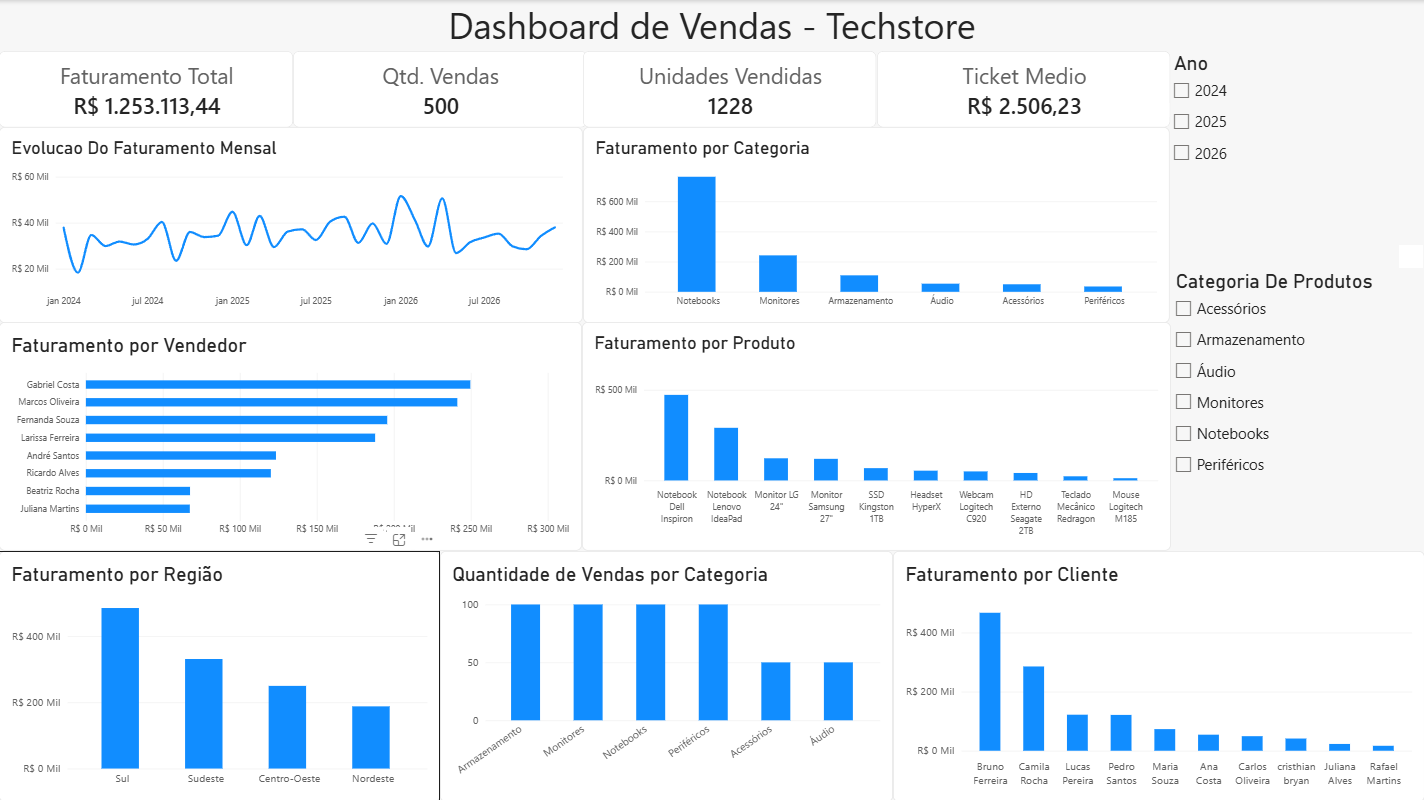

This screenshot's page, from the dashboard's own definition file:
{"tool":"powerbi","page":{"name":"Análise Geral","canvas":[1920,1080],"ordinal":0},"visuals":[{"type":"cardVisual","fields":{"Data":["techstore vendas.Faturamento Total"]},"box":[0,69,396,103.6],"z":0},{"type":"cardVisual","fields":{"Data":["techstore vendas.quantidade de vendas"]},"box":[395.5,69,396,103.6],"z":1000},{"type":"cardVisual","fields":{"Data":["techstore vendas.quantidade produtos vendidos"]},"box":[786.4,68.7,395.9,103.7],"z":2000},{"type":"cardVisual","fields":{"Data":["techstore vendas.Ticket Medio"]},"box":[1182.3,68.7,395.9,103.7],"z":3000},{"type":"columnChart","title":"Faturamento por Categoria","fields":{"Category":["techstore produtos.categoria"],"Y":["techstore vendas.Faturamento Total"]},"box":[786.4,171,790.5,263.9],"z":4000},{"type":"lineChart","title":"Evolucao Do Faturamento Mensal","fields":{"Category":["techstore vendas.data_venda.Variation.Hierarquia de datas.Ano","techstore vendas.data_venda.Variation.Hierarquia de datas.Mês"],"Y":["techstore vendas.Faturamento Total"]},"box":[0,171,786.4,263.9],"z":5000},{"type":"lineClusteredColumnComboChart","title":"Quantidade de Vendas por Categoria","fields":{"Category":["techstore produtos.categoria"],"Y":["techstore vendas.quantidade de vendas"]},"box":[594,742.1,609.8,338],"z":6000},{"type":"clusteredBarChart","title":"Faturamento por Vendedor","fields":{"Category":["techstore vendedores.nome"],"Y":["techstore vendas.Faturamento Total"]},"box":[0,433.6,785.1,308.4],"z":7000},{"type":"lineClusteredColumnComboChart","title":"Faturamento por Região","fields":{"Category":["techstore vendedores.regiao"],"Y":["techstore vendas.Faturamento Total"]},"box":[0,742.1,594,338],"z":8000},{"type":"lineClusteredColumnComboChart","title":"Faturamento por Produto","fields":{"Category":["techstore produtos.nome"],"Y":["techstore vendas.Faturamento Total"]},"box":[785.1,433.6,793.2,308.4],"z":9000},{"type":"slicer","fields":{"Values":["techstore vendas.data_venda.Variation.Hierarquia de datas.Ano"]},"box":[1574.2,68.7,346.1,293.6],"z":10000},{"type":"slicer","fields":{"Values":["techstore produtos.categoria"]},"box":[1576.7,361.7,341.7,380],"z":11000},{"type":"textbox","box":[0,0,1920,68.8],"z":12000},{"type":"lineClusteredColumnComboChart","title":"Faturamento por Cliente","fields":{"Category":["techstore clientes.nome"],"Y":["techstore vendas.Faturamento Total"]},"box":[1203.8,742.1,716.2,338],"z":13000}]}

Visuals, with their boxes in screenshot pixels (x1, y1, x2, y2), scaled from the page's 1920x1080 canvas onto the 1424x800 screenshot:
cardVisual - techstore vendas.Faturamento Total: rect(0, 51, 294, 128)
cardVisual - techstore vendas.quantidade de vendas: rect(293, 51, 587, 128)
cardVisual - techstore vendas.quantidade produtos vendidos: rect(583, 51, 877, 128)
cardVisual - techstore vendas.Ticket Medio: rect(877, 51, 1170, 128)
"Faturamento por Categoria" columnChart: rect(583, 127, 1170, 322)
"Evolucao Do Faturamento Mensal" lineChart: rect(0, 127, 583, 322)
"Quantidade de Vendas por Categoria" lineClusteredColumnComboChart: rect(441, 550, 893, 799)
"Faturamento por Vendedor" clusteredBarChart: rect(0, 321, 582, 550)
"Faturamento por Região" lineClusteredColumnComboChart: rect(0, 550, 441, 799)
"Faturamento por Produto" lineClusteredColumnComboChart: rect(582, 321, 1171, 550)
slicer - techstore vendas.data_venda.Variation.Hierarquia de datas.Ano: rect(1168, 51, 1423, 268)
slicer - techstore produtos.categoria: rect(1169, 268, 1423, 549)
textbox: rect(0, 0, 1423, 51)
"Faturamento por Cliente" lineClusteredColumnComboChart: rect(893, 550, 1423, 799)
